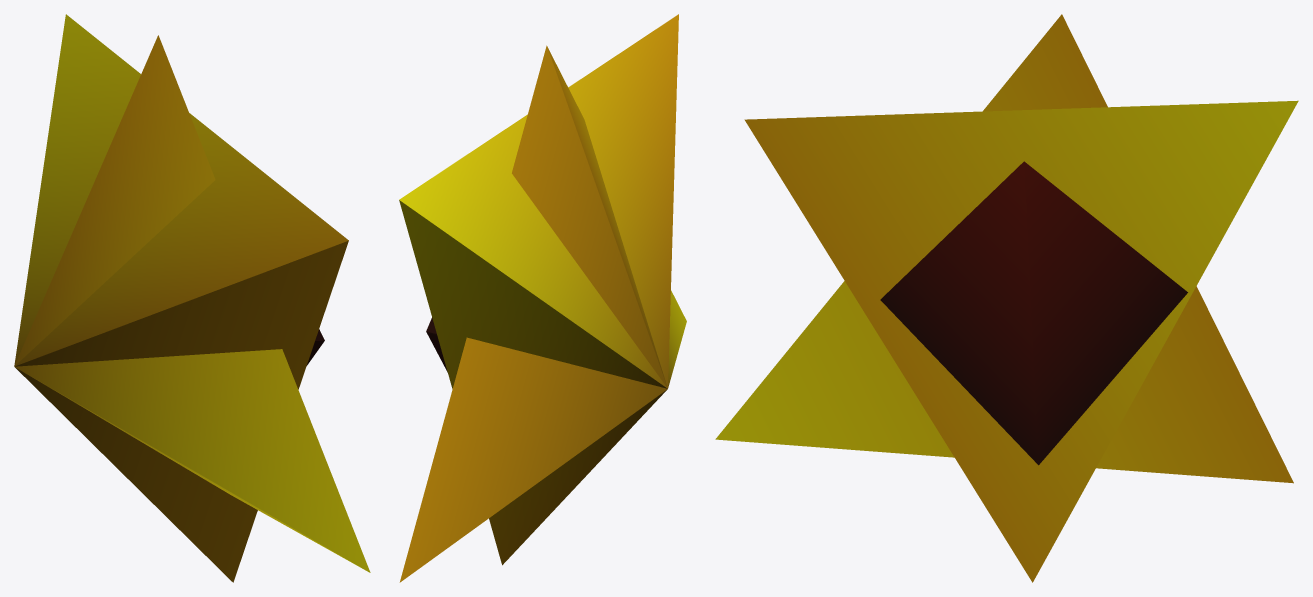
The model's file is c_flower_sunflower_aa.fbx.
3 views of the same model, side by side, from view 1: azimuth 30°, elevation 25°; view 2: azimuth 150°, elevation 25°; view 3: azimuth 270°, elevation 25° (orthographic). The views are drawn at different scales.
Visible parts, largest first — view 1: c_flower_sunflower_aa; view 2: c_flower_sunflower_aa; view 3: c_flower_sunflower_aa.
Part boxes in pixels (bbox=[...]): c_flower_sunflower_aa: bbox=[14, 14, 370, 582]; c_flower_sunflower_aa: bbox=[399, 14, 686, 582]; c_flower_sunflower_aa: bbox=[715, 14, 1298, 582].
Bounding box in the file's own units: 0.1223 × 0.3045 × 0.2981.
